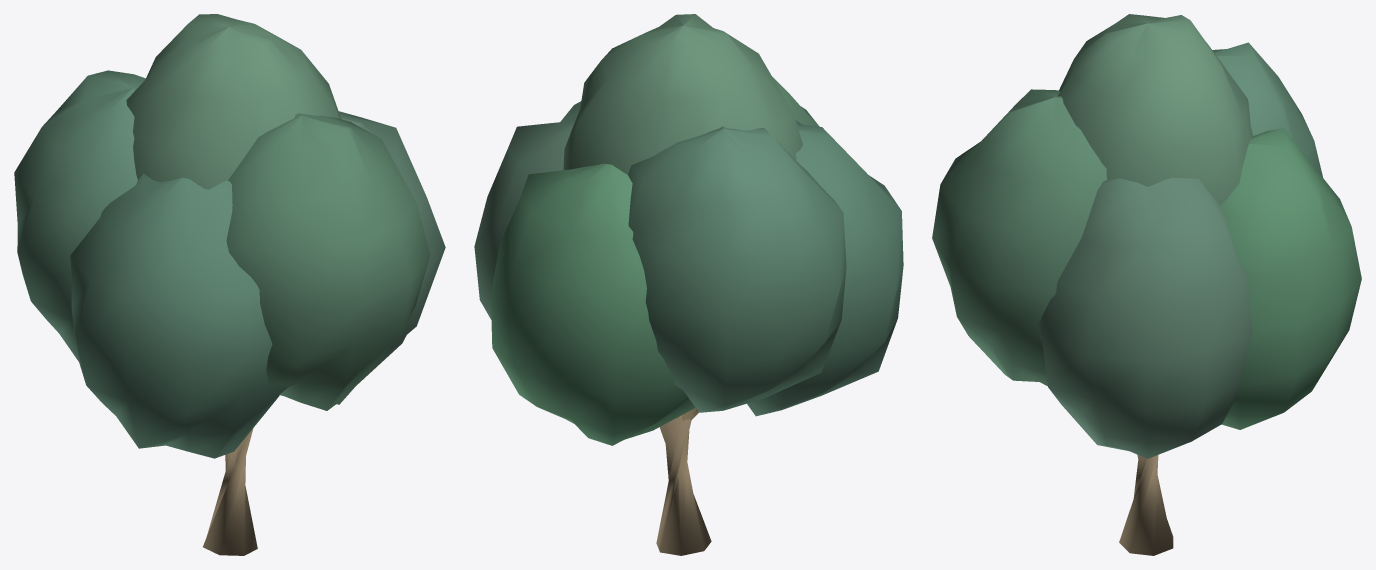
The model's file is tree0.glb.
The picture shows the model from 3 angles, left to right: view 1: azimuth 30°, elevation 25°; view 2: azimuth 150°, elevation 25°; view 3: azimuth 270°, elevation 25°; orthographic projection.
Visible parts, largest first — view 1: Tree0_leaf, Tree0_bark; view 2: Tree0_leaf, Tree0_bark; view 3: Tree0_leaf, Tree0_bark.
Boxes of the visible parts, x1,y1,x2,y2 form: Tree0_leaf: (14,14,445,458); Tree0_bark: (203,428,257,555); Tree0_leaf: (474,14,903,445); Tree0_bark: (656,408,711,555); Tree0_leaf: (932,14,1361,458); Tree0_bark: (1119,455,1173,555).
Size of the model in its own units: 0.5824 by 0.7674 by 0.5739.
